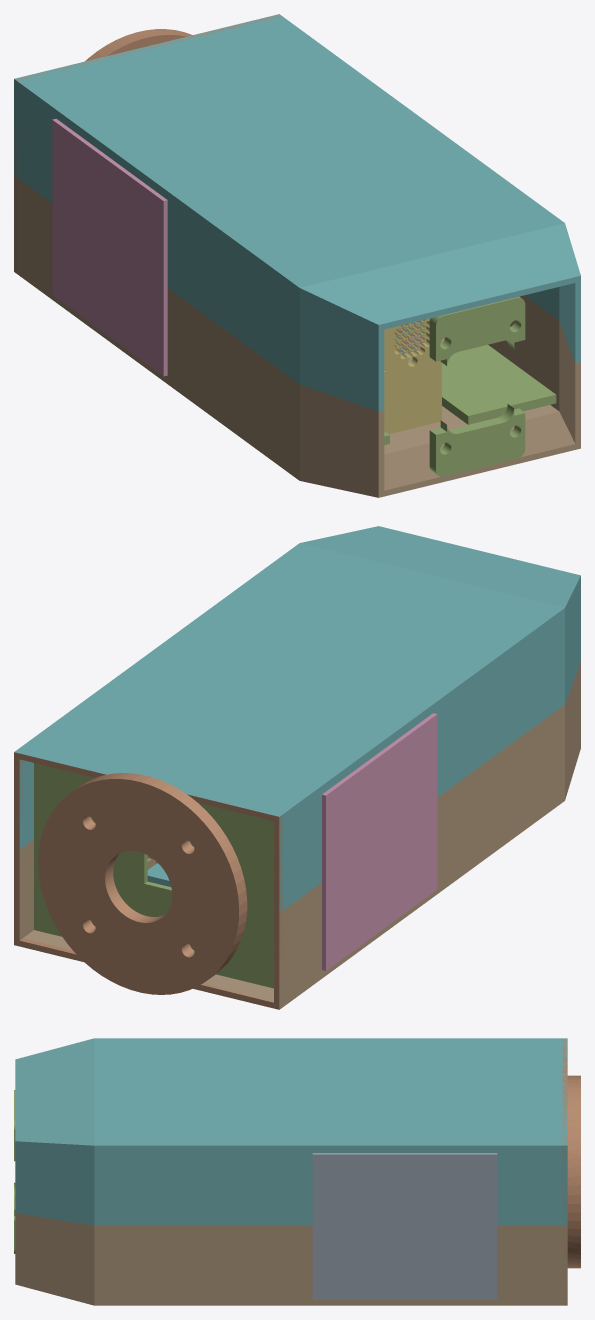
File: forearm.glb
3 views of the same model, one above another, from view 1: azimuth 30°, elevation 25°; view 2: azimuth 150°, elevation 25°; view 3: azimuth 270°, elevation 25° (orthographic). The views are drawn at different scales.
Visible parts, largest first — view 1: forearm_shell_back, forearm_cover_front, side_cover_L, forearm_frame, bundle_comb, arm_flange; view 2: forearm_shell_back, arm_flange, forearm_cover_front, side_cover_L, forearm_frame; view 3: forearm_shell_back, forearm_cover_front, side_cover_R, arm_flange.
Part boxes in pixels (x1,y1,x2,y2): forearm_shell_back: [14, 14, 580, 411]; forearm_cover_front: [14, 175, 580, 497]; side_cover_L: [52, 118, 167, 376]; forearm_frame: [384, 296, 556, 476]; bundle_comb: [384, 318, 441, 434]; arm_flange: [14, 14, 281, 273]; forearm_shell_back: [14, 526, 580, 912]; arm_flange: [14, 752, 282, 1009]; forearm_cover_front: [19, 662, 580, 1009]; side_cover_L: [322, 713, 437, 970]; forearm_frame: [34, 763, 273, 988]; forearm_shell_back: [15, 1038, 567, 1225]; forearm_cover_front: [15, 1213, 567, 1305]; side_cover_R: [312, 1153, 497, 1299]; arm_flange: [562, 1038, 580, 1305].
Bounding box in the file's own units: 98 × 71.98 × 212.
